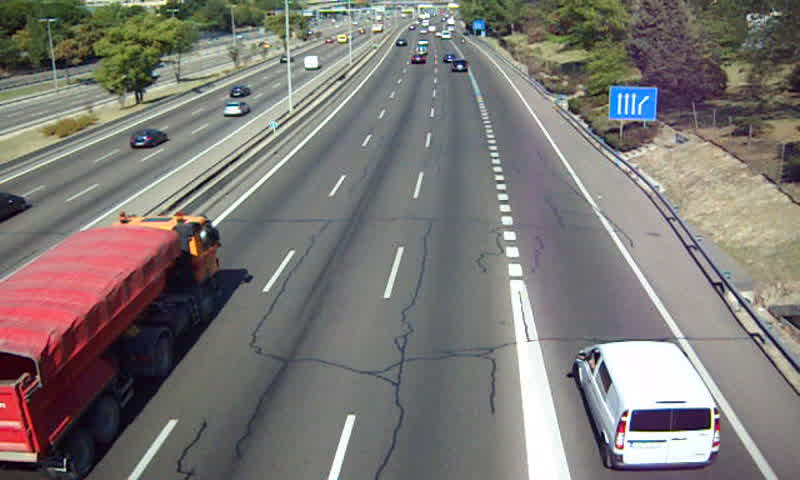car: (450, 60, 469, 74)
truck: (1, 215, 220, 480)
van: (574, 341, 722, 471)
